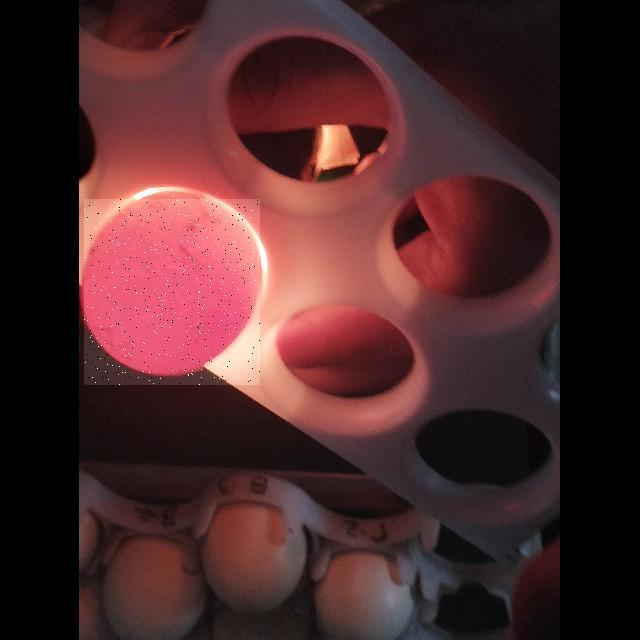Infertile: (84, 199, 260, 385)
